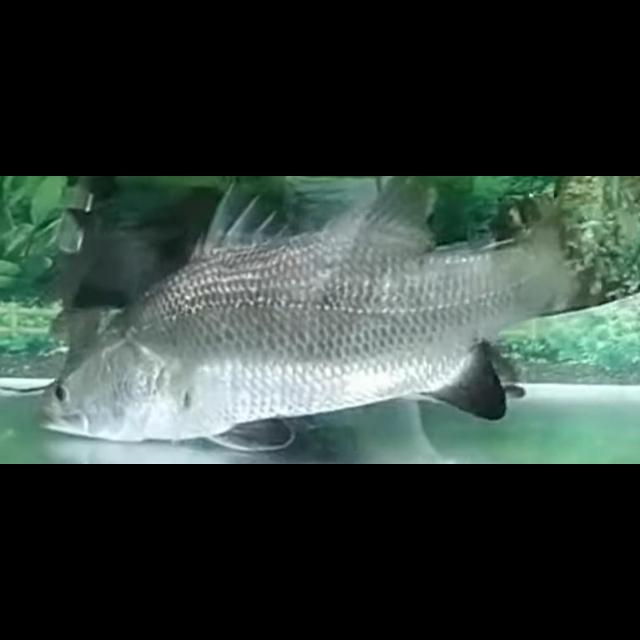Seabass: (36, 178, 640, 452)
